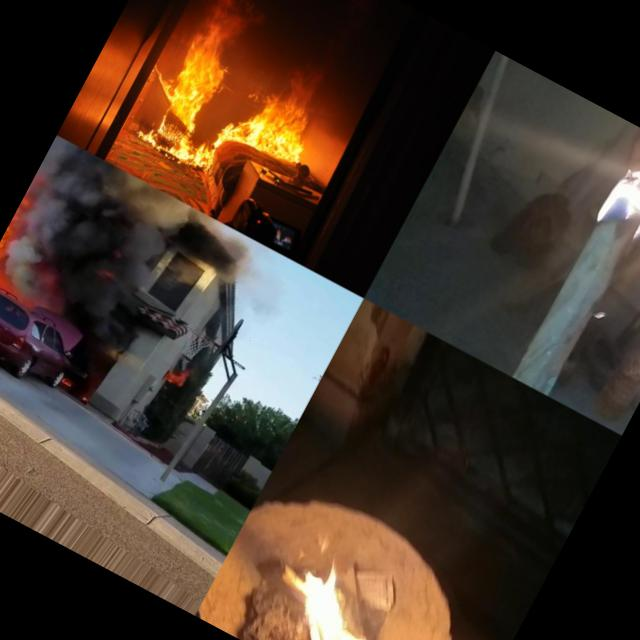fire: (138, 1, 256, 160), (256, 532, 414, 640), (218, 55, 332, 172), (591, 128, 640, 272), (0, 181, 38, 306), (183, 133, 218, 174)
smoke: (0, 138, 197, 341), (170, 210, 263, 296), (32, 135, 63, 184)
